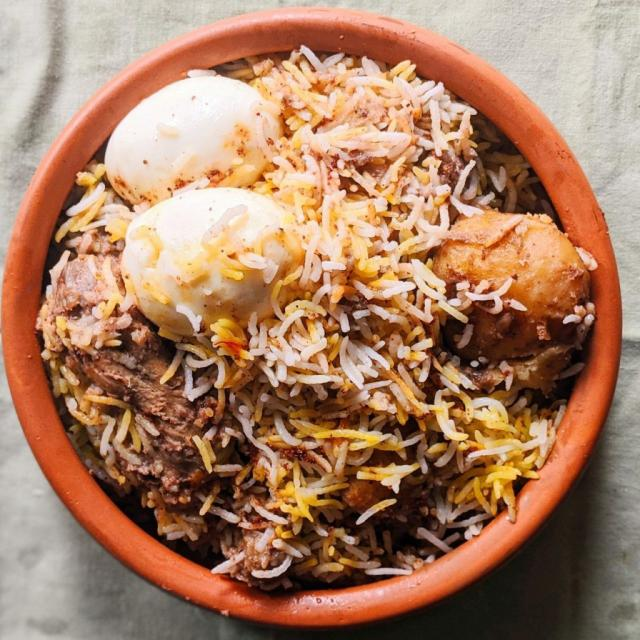Biryani: (38, 49, 588, 587)
